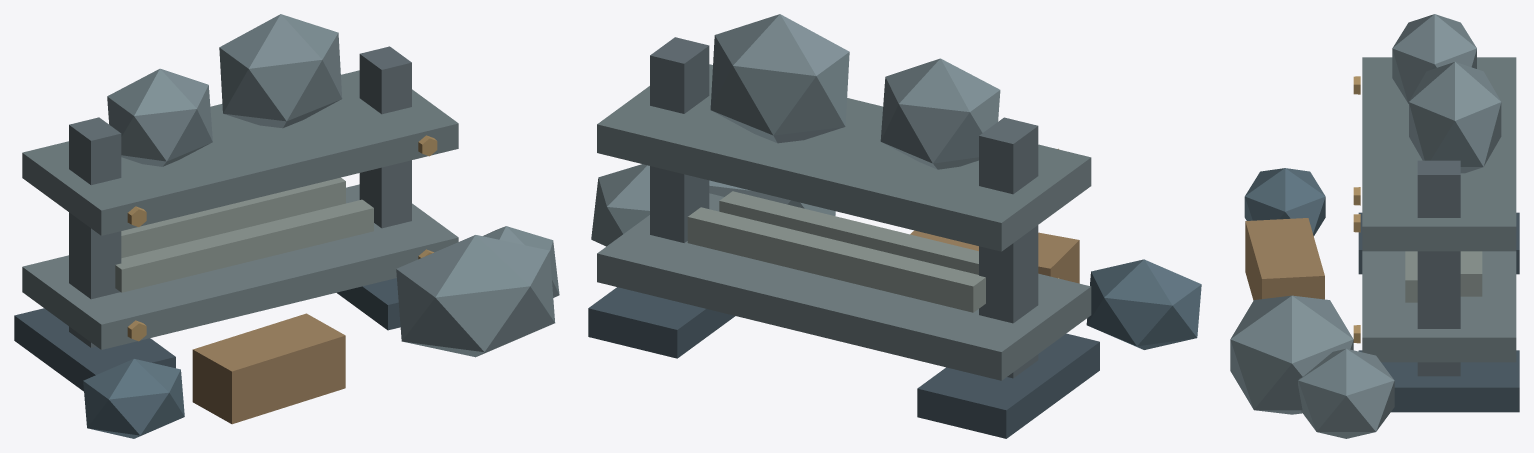
File: xingyin-environment-v2__iron_ore_rack.glb
The picture shows the model from 3 angles, left to right: view 1: azimuth 30°, elevation 25°; view 2: azimuth 150°, elevation 25°; view 3: azimuth 270°, elevation 25°; orthographic projection. The views are drawn at different scales.
Visible parts, largest first — view 1: iron_ore_rack; view 2: iron_ore_rack; view 3: iron_ore_rack.
Part boxes in pixels (x1,y1,x2,y2): iron_ore_rack: (14, 14, 559, 438); iron_ore_rack: (588, 14, 1201, 438); iron_ore_rack: (1230, 14, 1519, 438).
Size of the model in its own units: 2.47 by 1.46 by 1.28.
